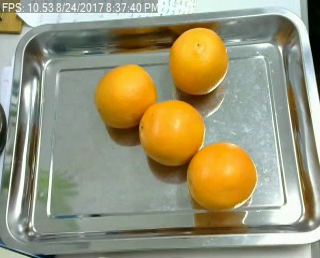Orange: (186, 143, 257, 210), (138, 100, 205, 166), (168, 26, 229, 94), (94, 63, 158, 126)
